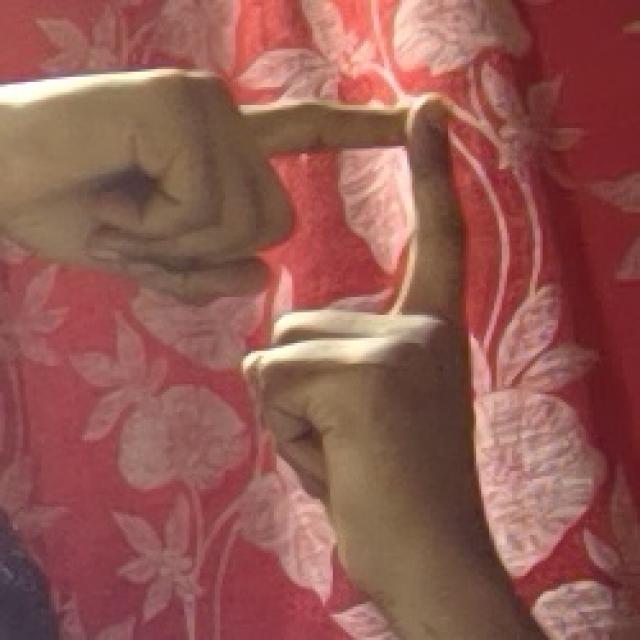Alphabet-E: (63, 59, 493, 568)
